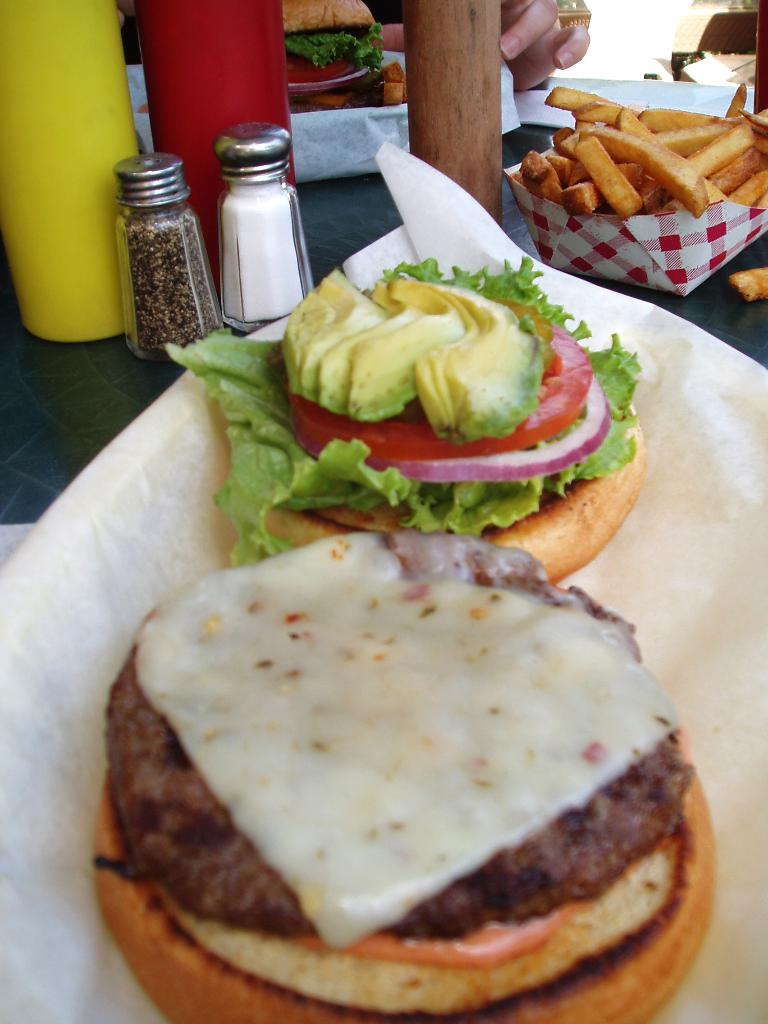French fries: (508, 63, 752, 218)
